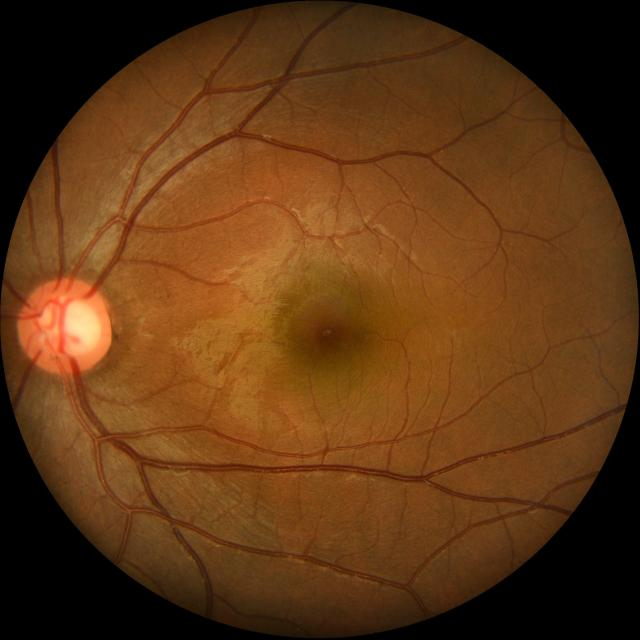OC: (41, 295, 98, 355)
OD: (17, 278, 112, 375)
